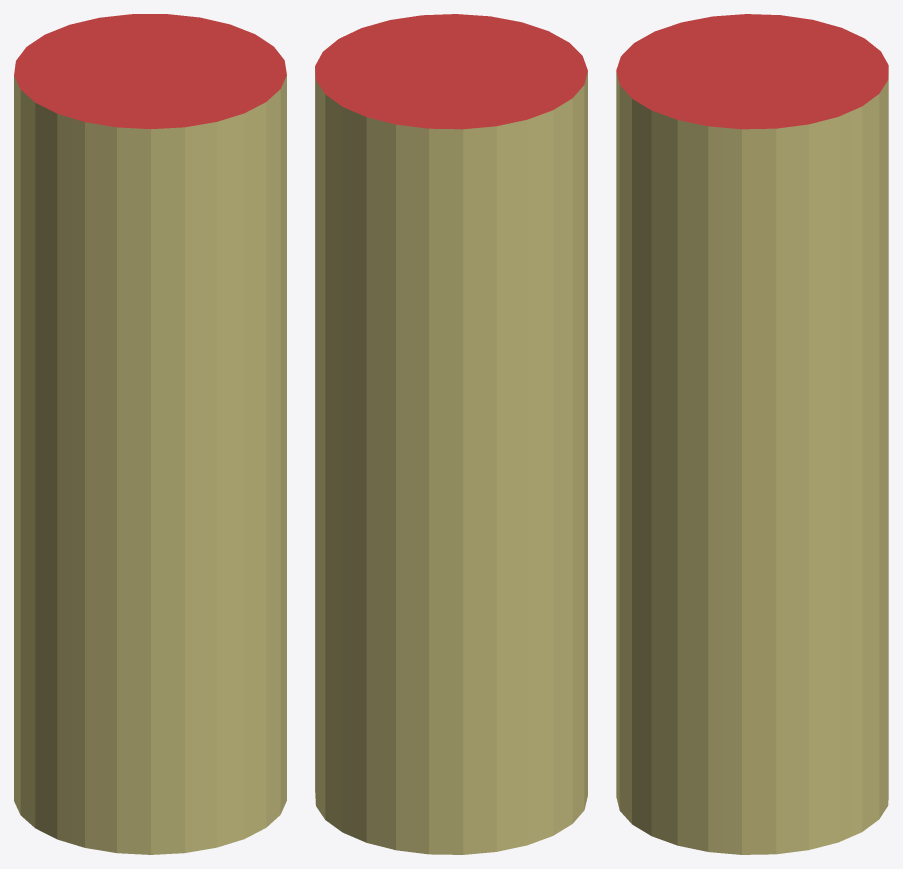
3 renders of one model, left to right at view 1: azimuth 30°, elevation 25°; view 2: azimuth 150°, elevation 25°; view 3: azimuth 270°, elevation 25°, orthographic.
Bounding box in the file's own units: 3.72 × 3.71 × 10.91.
